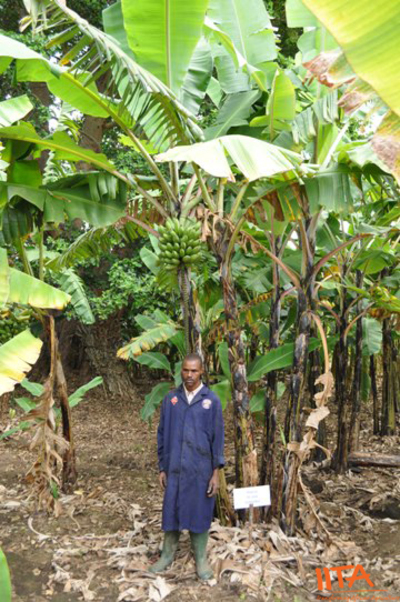bananaHand: (153, 215, 209, 269)
